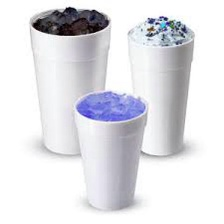paper_cup: (24, 2, 115, 159), (122, 10, 199, 160), (68, 85, 152, 216)
